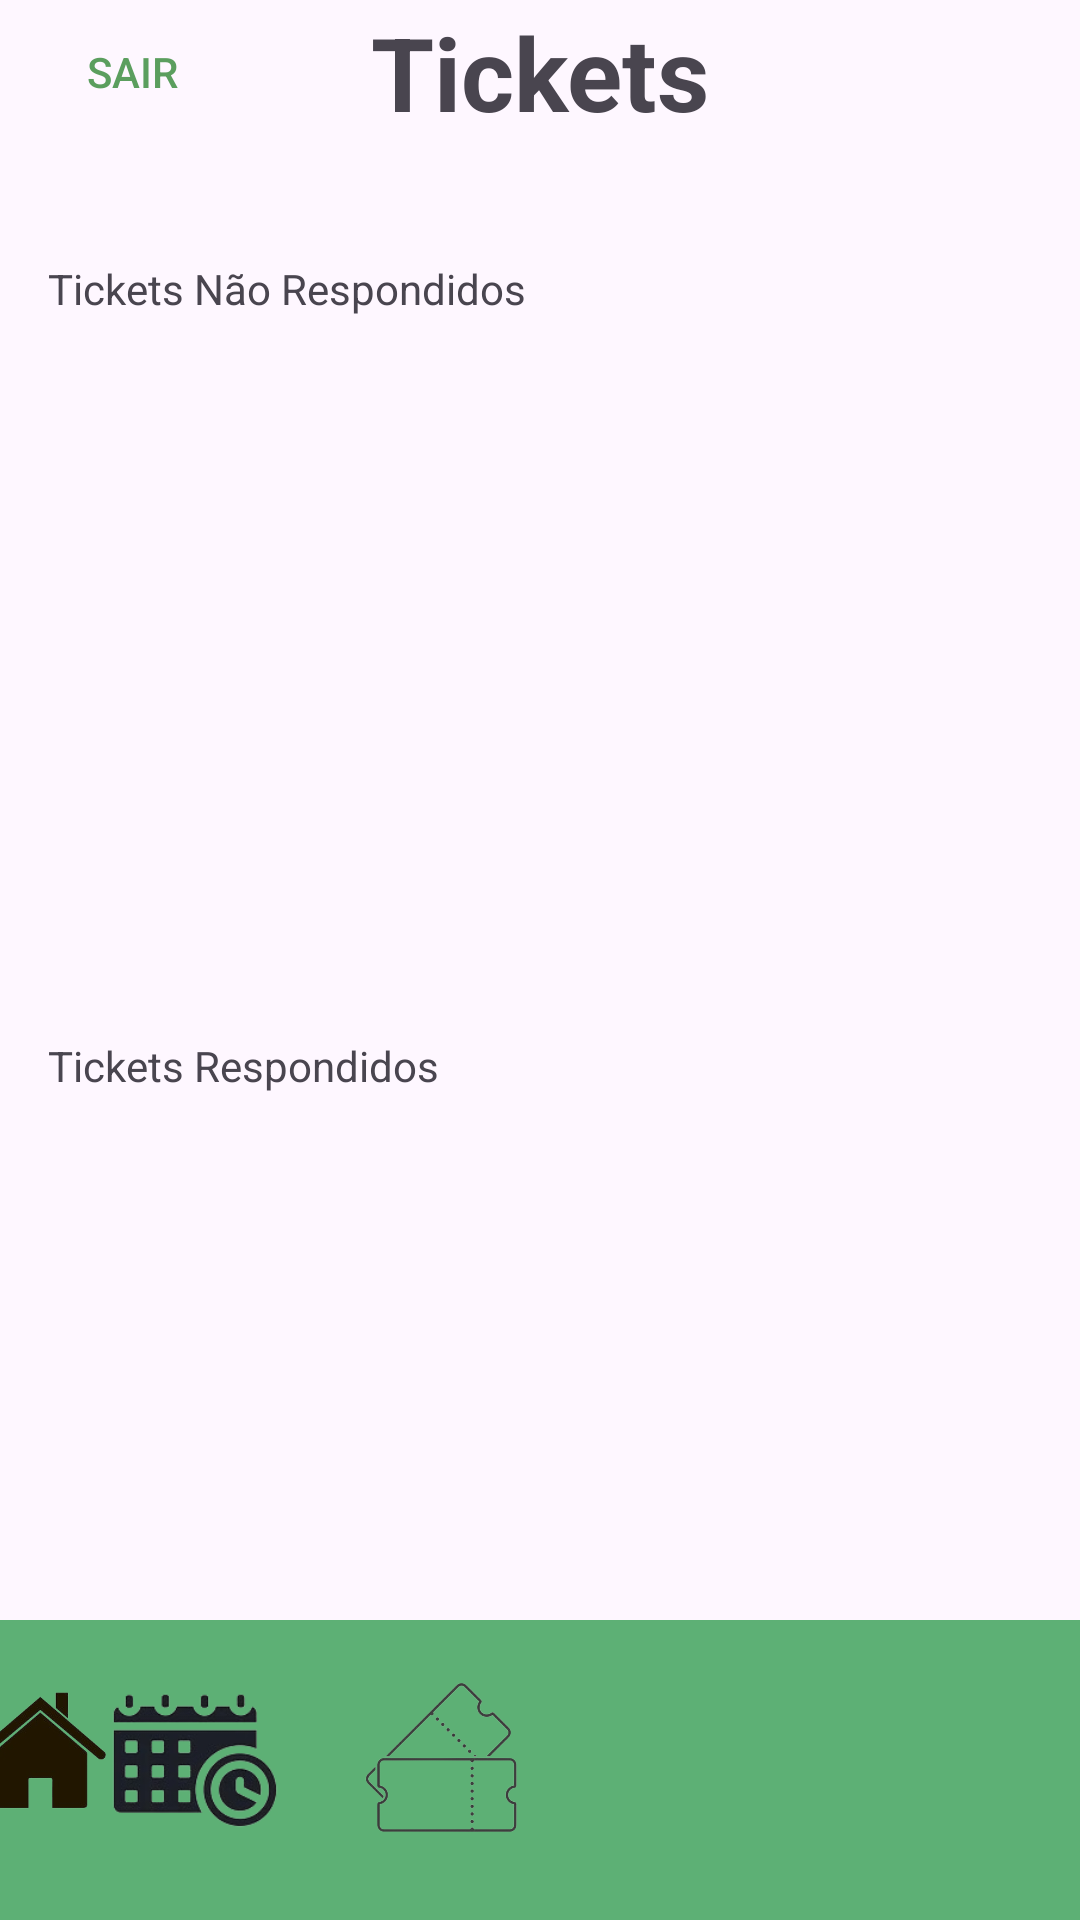

Named icons in this screenshot (1080w x 1920h) and their centers, (x=x, y=y):
reserva: (x=195, y=1760)
ticket: (x=441, y=1757)
